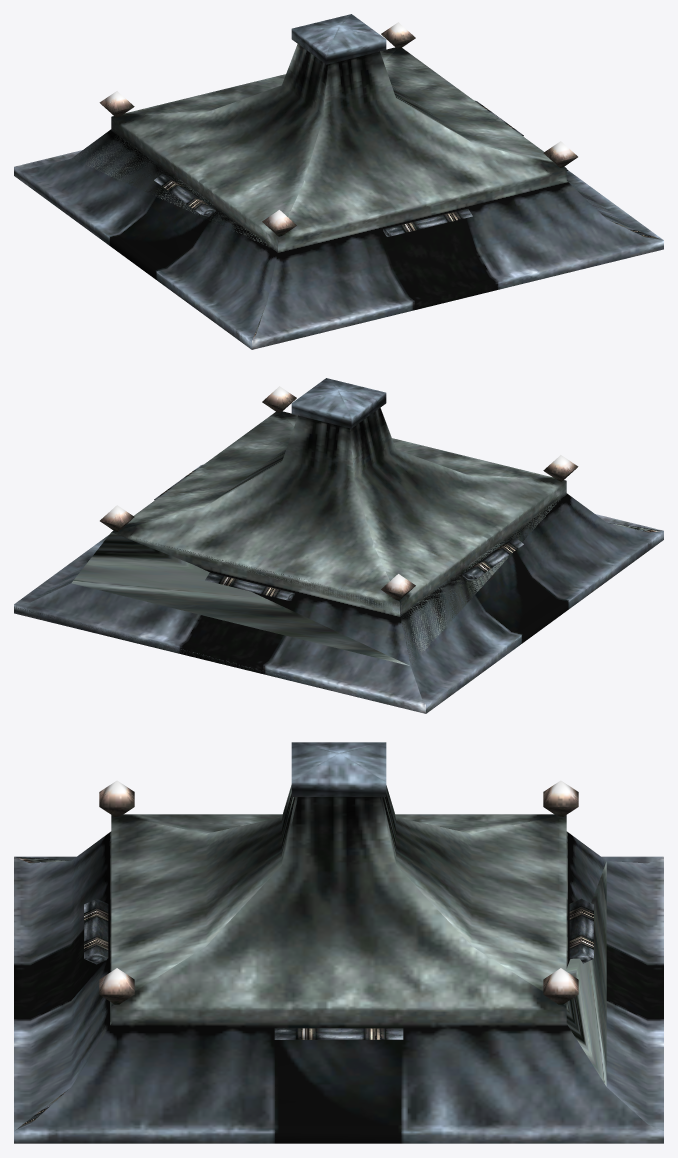
The model's file is stbuho11.dae.
3 views of the same model, one above another, from view 1: azimuth 30°, elevation 25°; view 2: azimuth 150°, elevation 25°; view 3: azimuth 270°, elevation 25° (orthographic). The views are drawn at different scales.
Parts seen in each view (by area): view 1: tent00, topp; view 2: tent00, topp; view 3: tent00, topp.
Boxes of the visible parts, x1,y1,x2,y2 form: tent00: [14, 14, 663, 349]; topp: [72, 129, 662, 339]; tent00: [14, 378, 663, 713]; topp: [14, 495, 662, 706]; tent00: [14, 742, 663, 1143]; topp: [15, 856, 606, 1130].
Bounding box in the file's own units: 3.37 × 3.37 × 1.45.
1 material, 1 textured.
